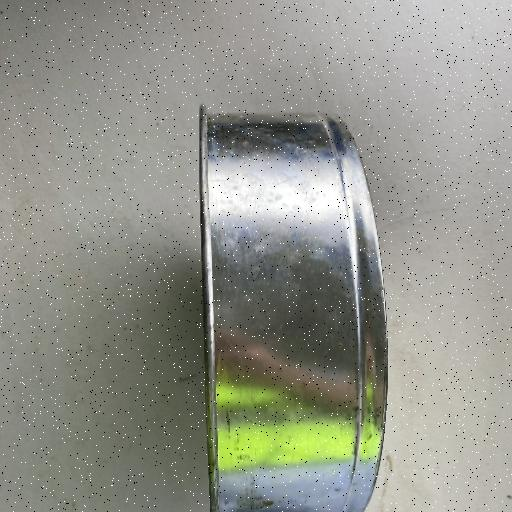Metal: (195, 104, 391, 512)
